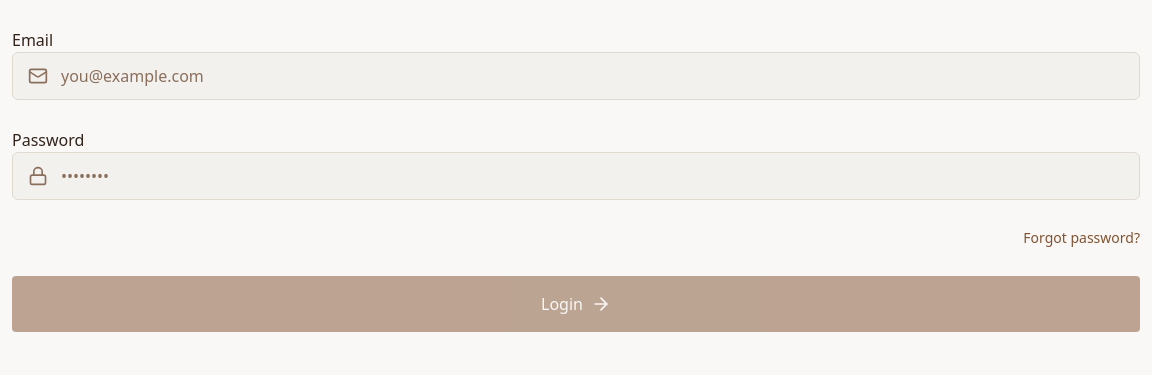
Scenario: LoginForm › shows validation error when password is empty and submitted via fireEvent
Type "dan@test.com" into the field labelled "Email" at (576, 76), box [12,52,1140,100]
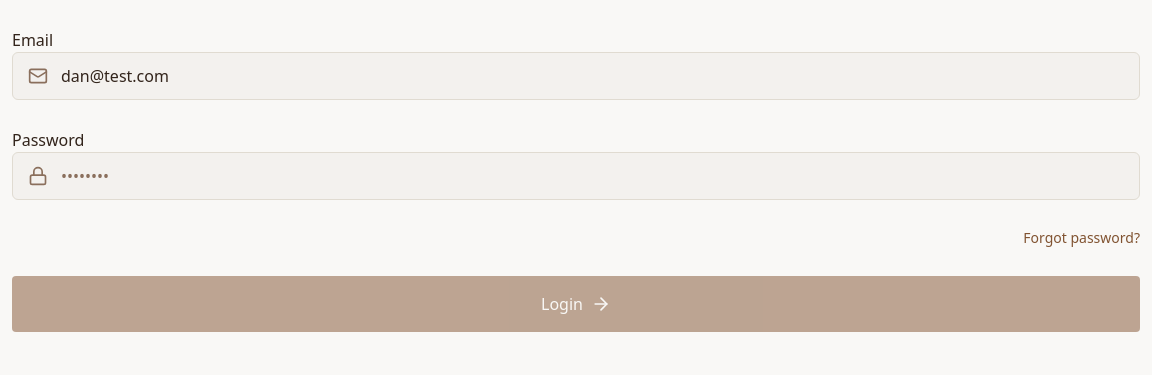
Submit the form labelled "Email"
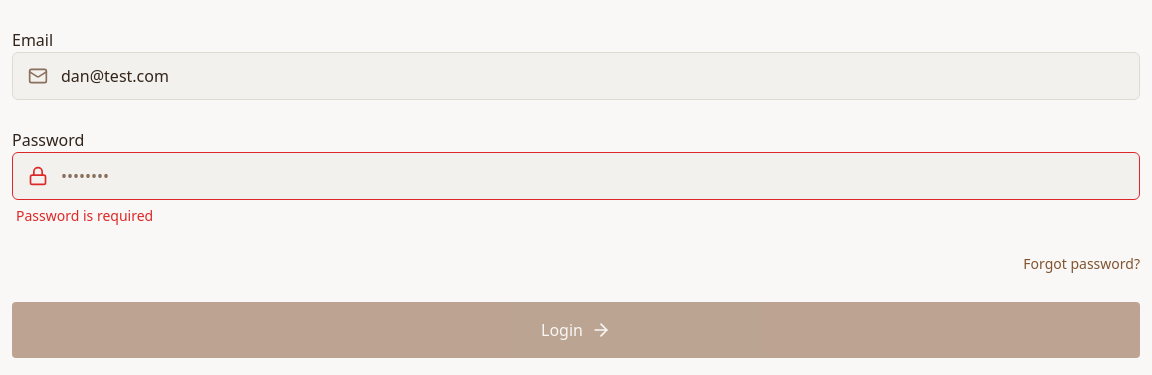
expect the text "Password is required" is shown: met, box [16,206,153,225]
